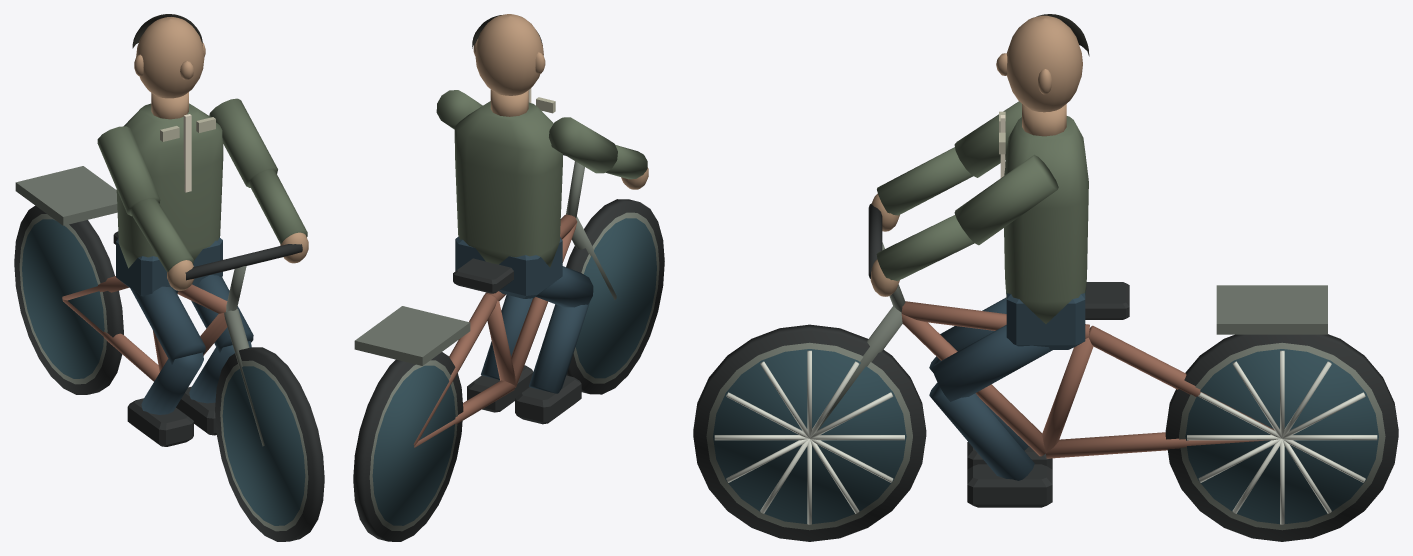
File: cyclist.glb
3 views of the same model, side by side, from view 1: azimuth 30°, elevation 25°; view 2: azimuth 150°, elevation 25°; view 3: azimuth 270°, elevation 25° (orthographic). The views are drawn at different scales.
Visible parts, largest first — view 1: bicycle, body.004, leg-left.004, arm-left.004, arm-right.004, leg-right.004; view 2: bicycle, body.004, leg-left.004, arm-left.004, leg-right.004, arm-right.004; view 3: bicycle, body.004, leg-right.004, arm-right.004, arm-left.004, leg-left.004.
Boxes of the visible parts, left/top/right/bottom form: bicycle: left=14, top=166, right=324, bottom=541; body.004: left=116, top=14, right=223, bottom=296; leg-left.004: left=127, top=286, right=205, bottom=446; arm-left.004: left=97, top=126, right=194, bottom=290; arm-right.004: left=209, top=98, right=308, bottom=263; leg-right.004: left=176, top=275, right=253, bottom=435; bicycle: left=353, top=154, right=664, bottom=541; body.004: left=454, top=14, right=562, bottom=298; leg-left.004: left=515, top=266, right=593, bottom=424; arm-left.004: left=549, top=117, right=648, bottom=189; leg-right.004: left=467, top=295, right=533, bottom=412; arm-right.004: left=436, top=90, right=482, bottom=129; bicycle: left=693, top=203, right=1398, bottom=541; body.004: left=996, top=14, right=1089, bottom=349; leg-right.004: left=929, top=325, right=1052, bottom=507; arm-right.004: left=870, top=154, right=1058, bottom=296; arm-left.004: left=871, top=101, right=1021, bottom=231; leg-left.004: left=929, top=297, right=1052, bottom=469.
Bounding box in the file's own units: 0.6197 × 1.75 × 2.15.
